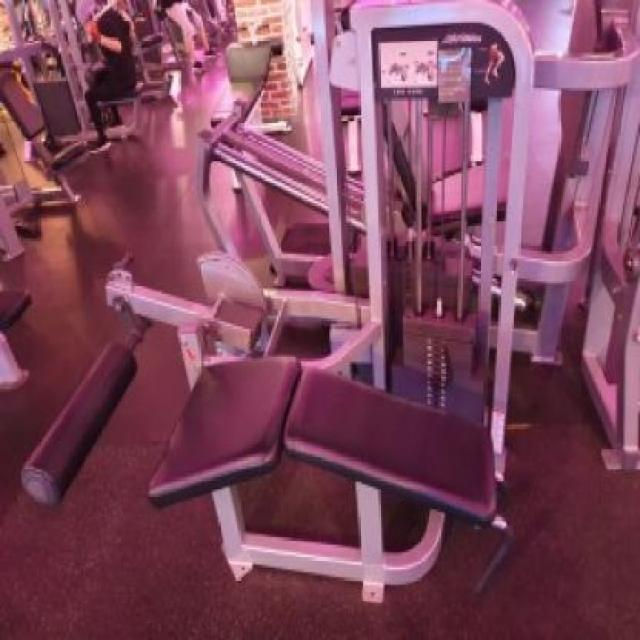reg curl machine: (14, 0, 537, 600)
